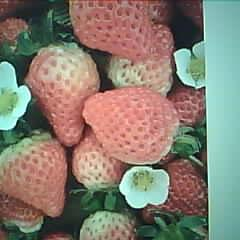straw-ripe: (26, 45, 100, 144), (84, 89, 177, 165), (0, 137, 68, 220)
